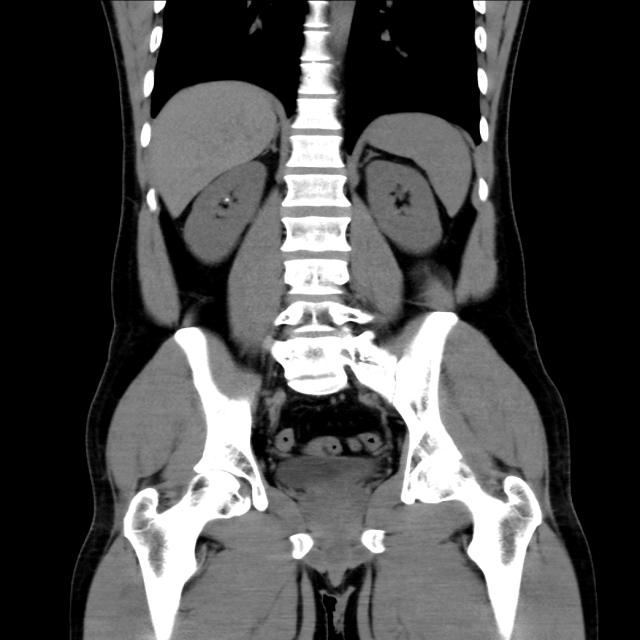kidneystone: (218, 196, 230, 208)
